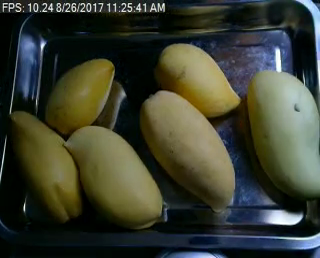Mango: (139, 90, 235, 207), (65, 124, 163, 229), (247, 68, 320, 200), (4, 111, 81, 223), (152, 42, 241, 117), (44, 59, 116, 135)
